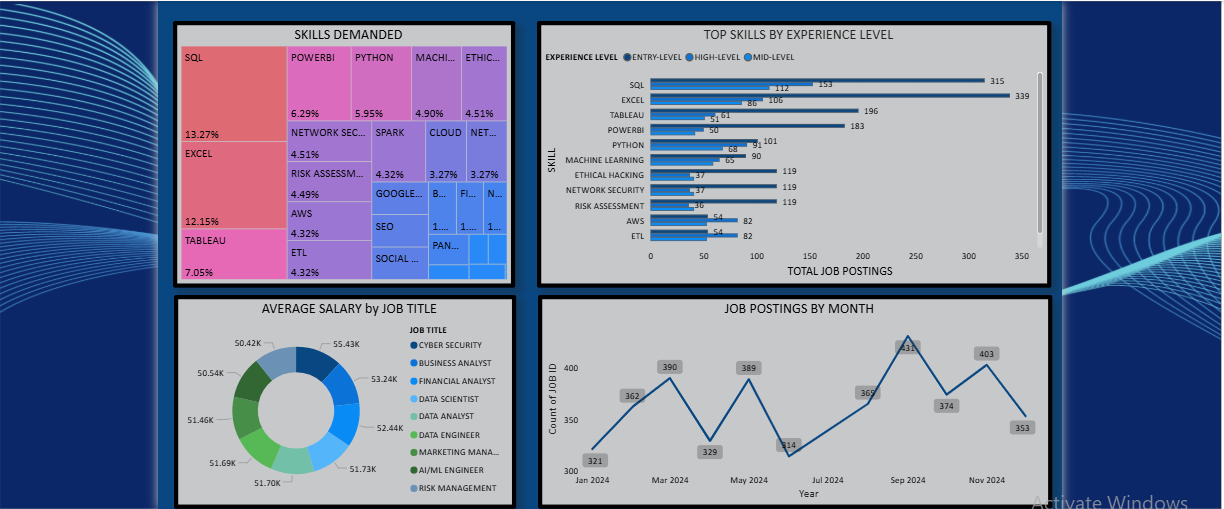

The page's visual inventory and layout, read from the dashboard file:
{"tool":"powerbi","page":{"name":"SKILLS DEMANDED","canvas":[1280,720],"ordinal":1},"visuals":[{"type":"treemap","title":"SKILLS DEMANDED","fields":{"Group":["Sheet1.SKILL"],"Values":["Sheet1.TOTAL JOB POSTINGS"]},"box":[21.8,28.6,485.5,378],"z":0},{"type":"clusteredBarChart","title":"TOP SKILLS BY EXPERIENCE LEVEL","fields":{"Category":["Sheet1.SKILL"],"Y":["Sheet1.TOTAL JOB POSTINGS"],"Series":["Sheet1.EXPERIENCE LEVEL"]},"box":[537.5,28.6,729,378],"z":1000},{"type":"donutChart","title":"AVERAGE SALARY by JOB TITLE","fields":{"Category":["Sheet1.JOB TITLE"],"Y":["Avg(Sheet1.AVERAGE SALARY)"]},"box":[22,417,485,303],"z":2000},{"type":"lineChart","title":"JOB POSTINGS BY MONTH","fields":{"Category":["Sheet1.POSTED DATE.Variation.Date Hierarchy.Year","Sheet1.POSTED DATE.Variation.Date Hierarchy.Month"],"Y":["CountNonNull(Sheet1.JOB ID)"]},"box":[538,417,729,303],"z":3000}]}

Visuals, with their boxes in screenshot pixels (x1, y1, x2, y2):
"SKILLS DEMANDED" treemap: bbox=[175, 20, 514, 284]
"TOP SKILLS BY EXPERIENCE LEVEL" clusteredBarChart: bbox=[535, 20, 1044, 284]
"AVERAGE SALARY by JOB TITLE" donutChart: bbox=[175, 291, 514, 503]
"JOB POSTINGS BY MONTH" lineChart: bbox=[535, 291, 1044, 503]
